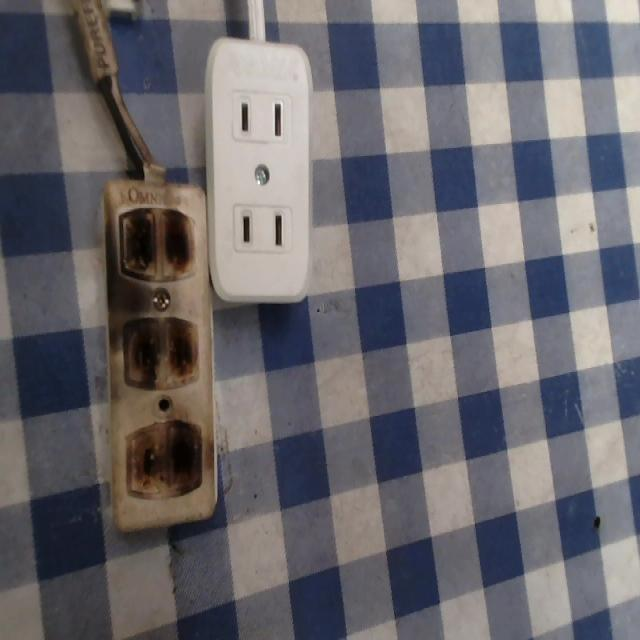-: (123, 420, 206, 505), (114, 204, 201, 283), (120, 311, 199, 392)
